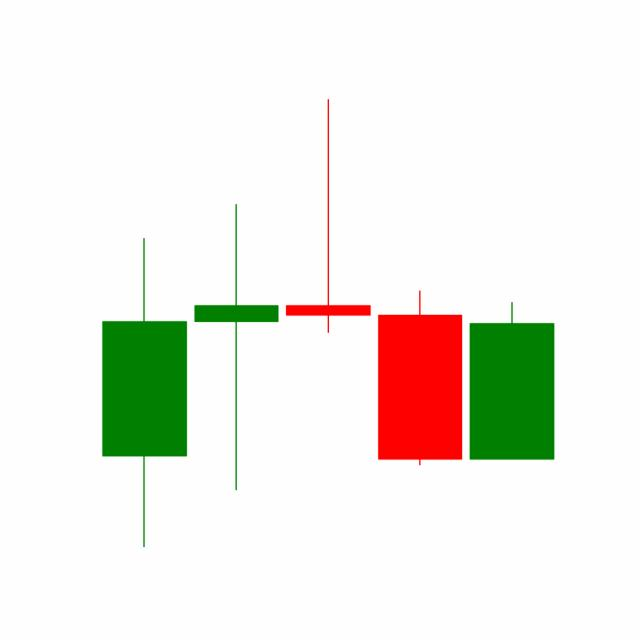Marubozu: (464, 299, 558, 461)
